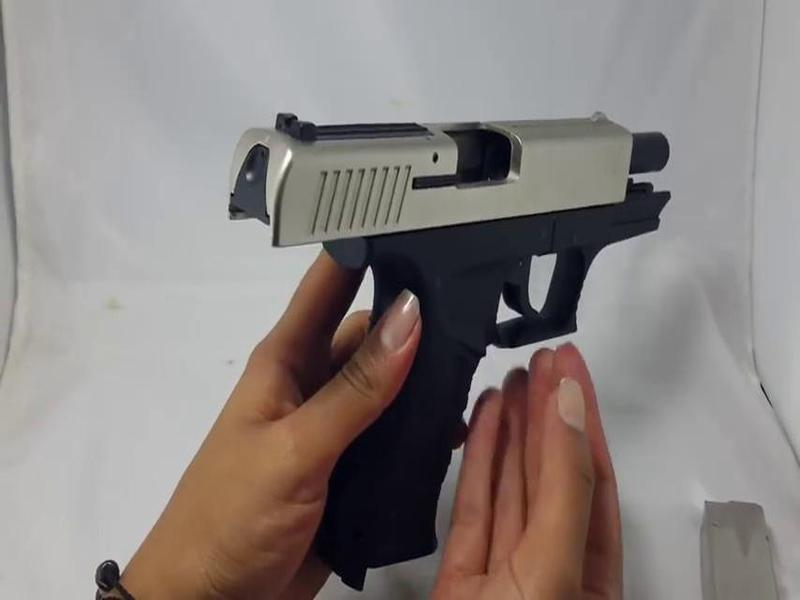Pistola: (225, 94, 680, 573)
